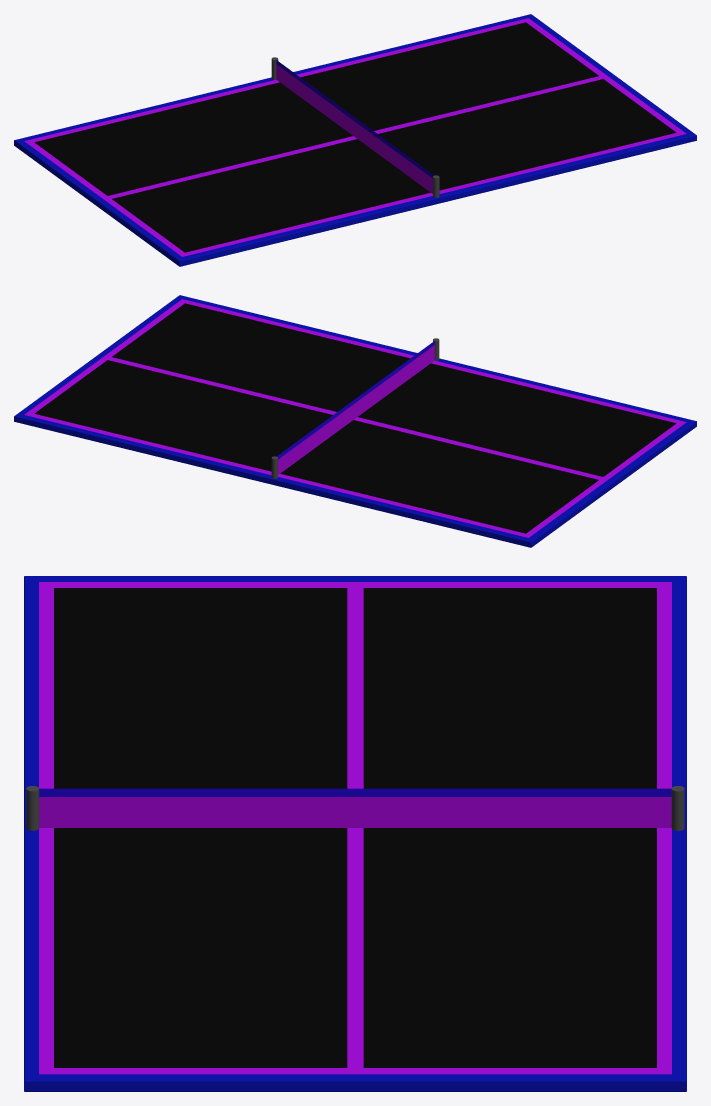
File: table3.fbx
The picture shows the model from 3 angles, top to bottom: view 1: azimuth 30°, elevation 25°; view 2: azimuth 150°, elevation 25°; view 3: azimuth 270°, elevation 25°; orthographic projection. The views are drawn at different scales.
Visible parts, largest first — view 1: Box001, Plane001; view 2: Box001, Plane001; view 3: Box001, Plane001.
Part boxes in pixels (box(x1,y1,x2,y2)): Box001: box(14, 14, 696, 266); Plane001: box(276, 60, 433, 193); Box001: box(14, 295, 696, 547); Plane001: box(277, 341, 434, 474); Box001: box(24, 576, 686, 1091); Plane001: box(39, 788, 671, 827).
Size of the model in its own units: 2.74 by 0.13 by 1.52.
